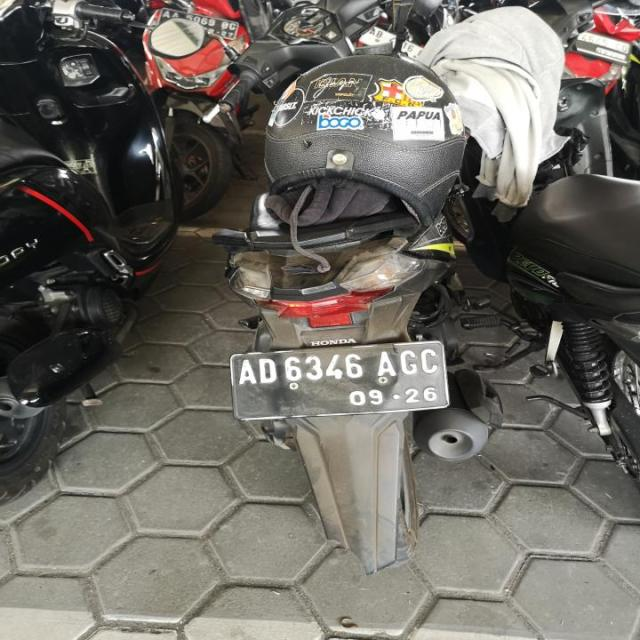License Plate: (228, 339, 452, 422), (158, 7, 240, 40)
